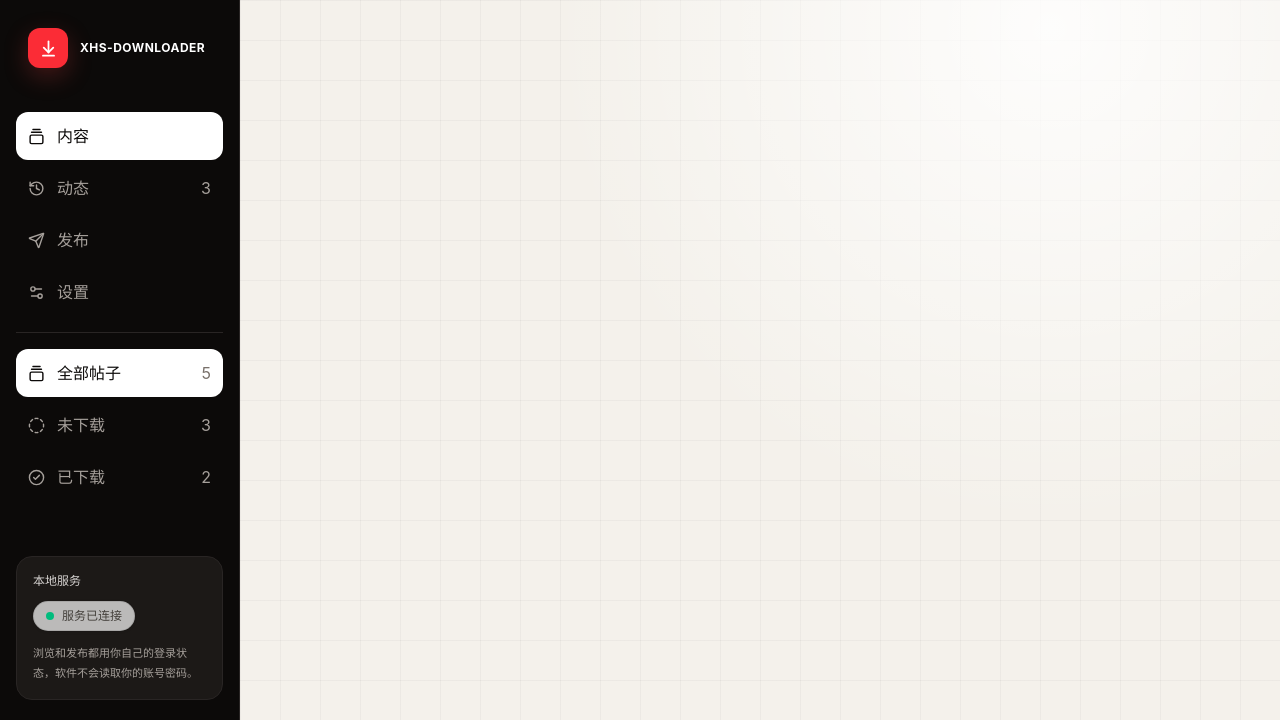
Test: 宽屏工作台侧栏 › 切到其它工作台后不再占位显示帖子筛选
The image size is (1280, 720).
Press the mouse on the tab "动态 3" at point(120, 188), box [16,164,223,212]
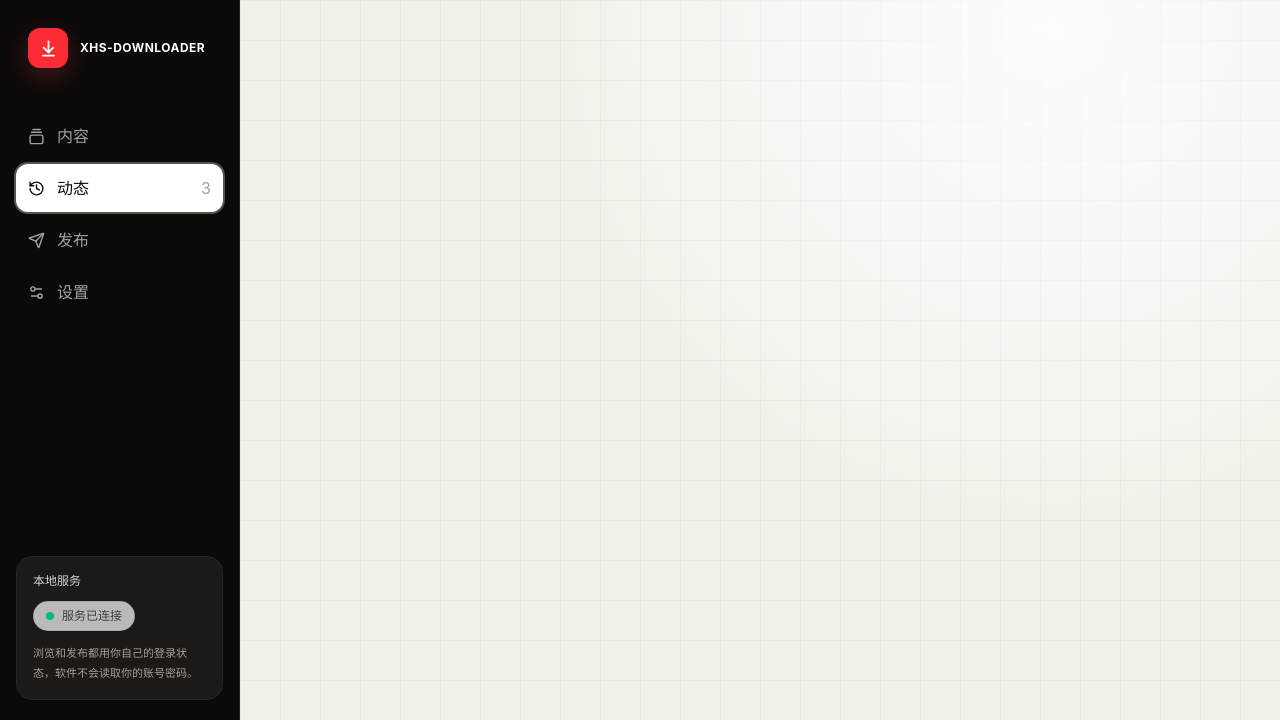
Expected: the navigation bar "帖子筛选" is gone
